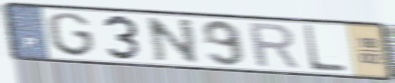3: (102, 14, 141, 61)
9: (200, 19, 246, 68)
G: (45, 11, 99, 59)
L: (301, 23, 349, 74)
N: (143, 16, 202, 65)
R: (245, 21, 303, 70)
